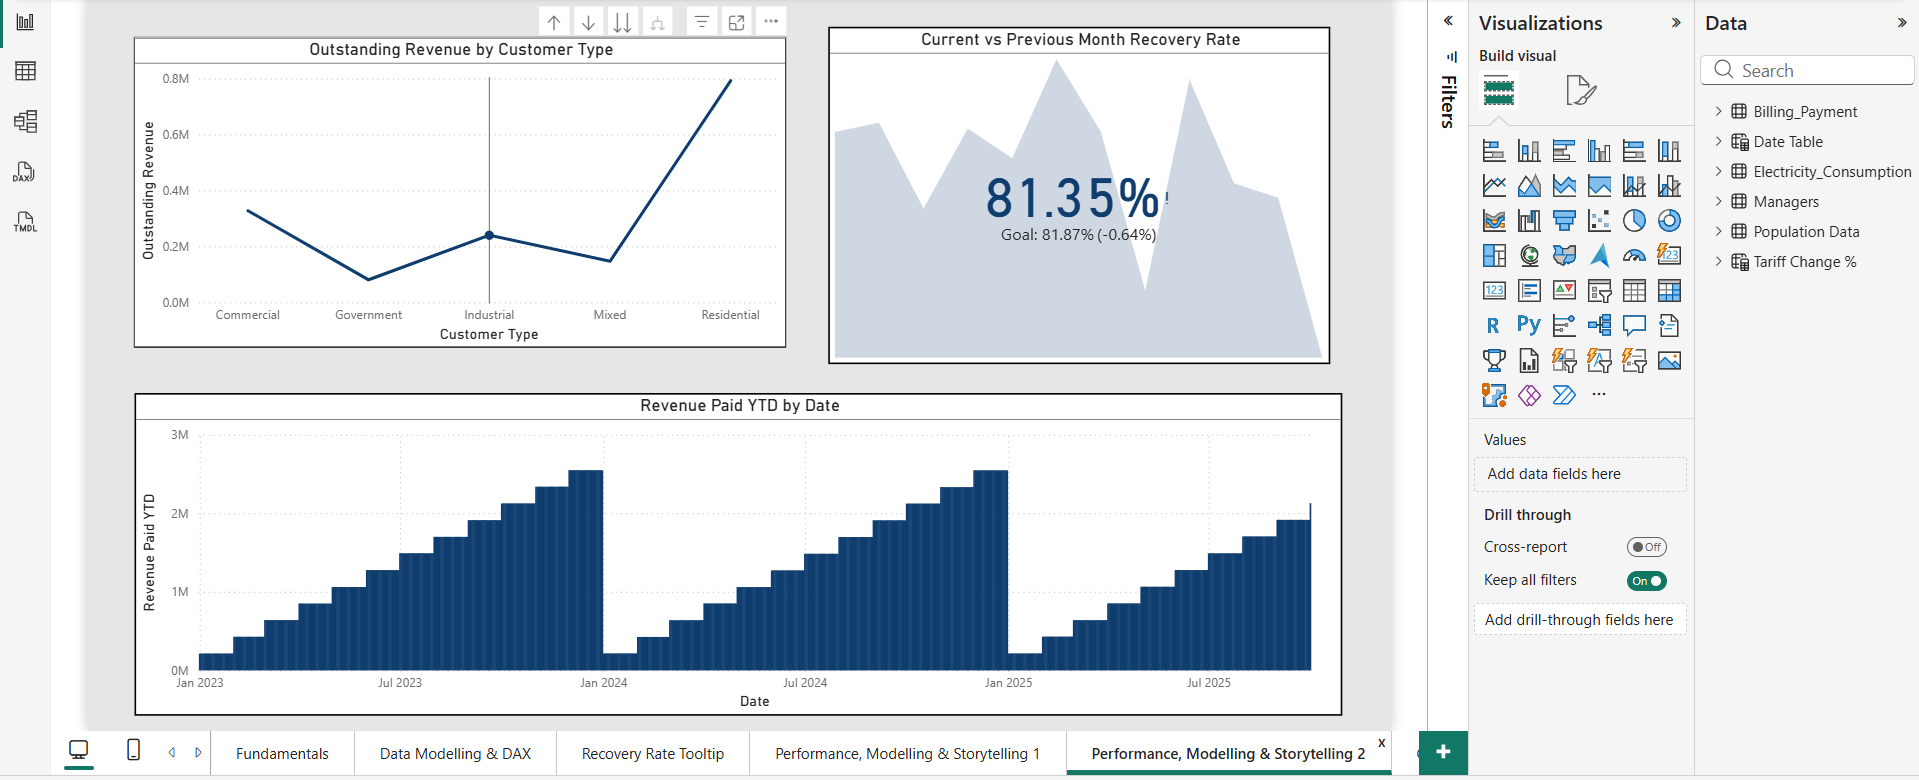

This screenshot's page, from the dashboard's own definition file:
{"tool":"powerbi","page":{"name":"Performance, Modelling & Storytelling 2","canvas":[1280,720],"ordinal":4},"visuals":[{"type":"lineChart","fields":{"Y":["Electricity_Consumption.Outstanding Revenue"],"Category":["Electricity_Consumption.Region Hierarchy.Region","Electricity_Consumption.Region Hierarchy.CustomerType","Electricity_Consumption.Region Hierarchy.CustomerID"]},"box":[45.7,38.6,641.4,305.7],"z":0},{"type":"clusteredColumnChart","fields":{"Category":["Date Table.Date.Variation.Date Hierarchy.Year"],"Y":["Billing_Payment.Revenue Paid YTD"]},"box":[47.1,387.1,1185.7,317.1],"z":1000},{"type":"kpi","title":"Current vs Previous Month Recovery Rate","fields":{"Indicator":["Billing_Payment.Recovery Rate (%)"],"Goal":["Electricity_Consumption.Previous Month Recovery Rate (%)"],"TrendLine":["Date Table.Date.Variation.Date Hierarchy.Month"]},"box":[727.1,28.6,492.9,331.4],"z":2000}]}

Visuals, with their boxes on the page's 1280x720 design canvas (x1, y1, x2, y2). These are canvas units, not pixel positions in the 1919x780 screenshot, which may show the page scaled, cropped or inside an application window:
lineChart - Electricity_Consumption.Outstanding Revenue x Electricity_Consumption.Region Hierarchy.Region: rect(46, 39, 687, 344)
clusteredColumnChart - Date Table.Date.Variation.Date Hierarchy.Year x Billing_Payment.Revenue Paid YTD: rect(47, 387, 1233, 704)
"Current vs Previous Month Recovery Rate" kpi: rect(727, 29, 1220, 360)
